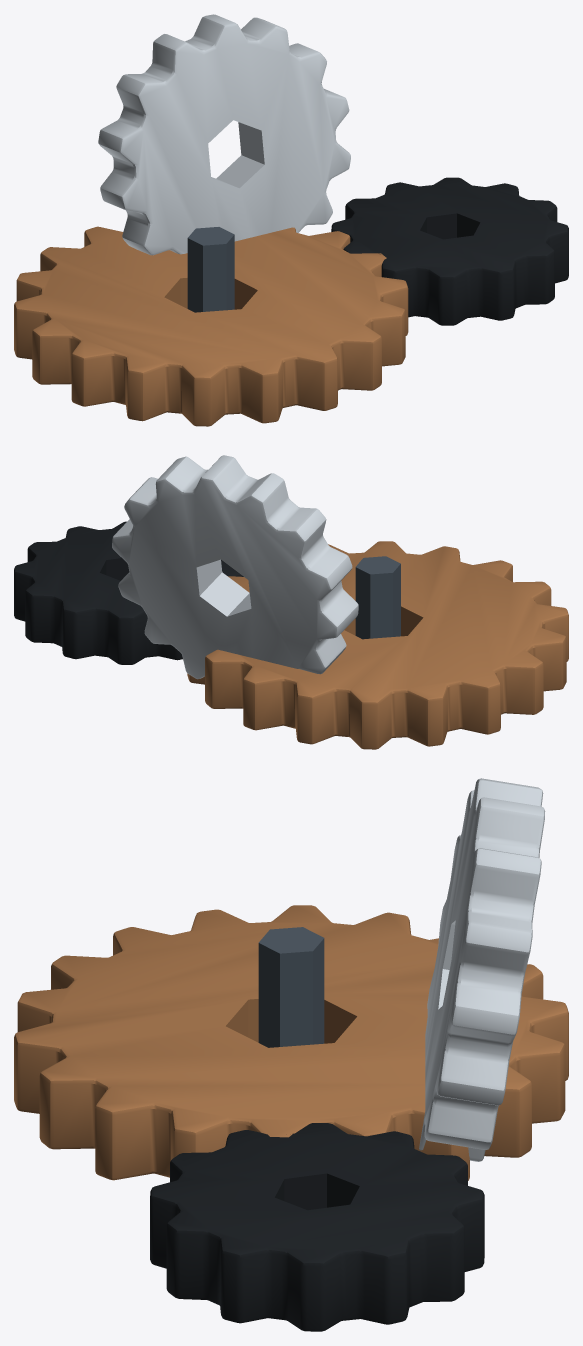
Rendered from forge-gears.glb.
3 views of the same model, one above another, from view 1: azimuth 30°, elevation 25°; view 2: azimuth 150°, elevation 25°; view 3: azimuth 270°, elevation 25° (orthographic). The views are drawn at different scales.
Parts seen in each view (by area): view 1: titan.forge.gear-large, titan.forge.gear-standing, titan.forge.gear-small, titan.forge.axle; view 2: titan.forge.gear-large, titan.forge.gear-standing, titan.forge.gear-small, titan.forge.axle; view 3: titan.forge.gear-large, titan.forge.gear-small, titan.forge.gear-standing, titan.forge.axle.
Part boxes in pixels (bbox=[...]): titan.forge.gear-large: bbox=[14, 226, 408, 426]; titan.forge.gear-standing: bbox=[98, 14, 350, 255]; titan.forge.gear-small: bbox=[331, 177, 568, 325]; titan.forge.axle: bbox=[187, 227, 234, 312]; titan.forge.gear-large: bbox=[187, 541, 568, 749]; titan.forge.gear-standing: bbox=[112, 455, 358, 679]; titan.forge.gear-small: bbox=[14, 521, 243, 664]; titan.forge.axle: bbox=[355, 556, 400, 639]; titan.forge.gear-large: bbox=[14, 905, 568, 1180]; titan.forge.gear-small: bbox=[150, 1123, 484, 1331]; titan.forge.gear-standing: bbox=[419, 778, 545, 1161]; titan.forge.axle: bbox=[258, 927, 324, 1047].
Bounding box in the file's own units: 1.52 × 0.6938 × 0.9941.
